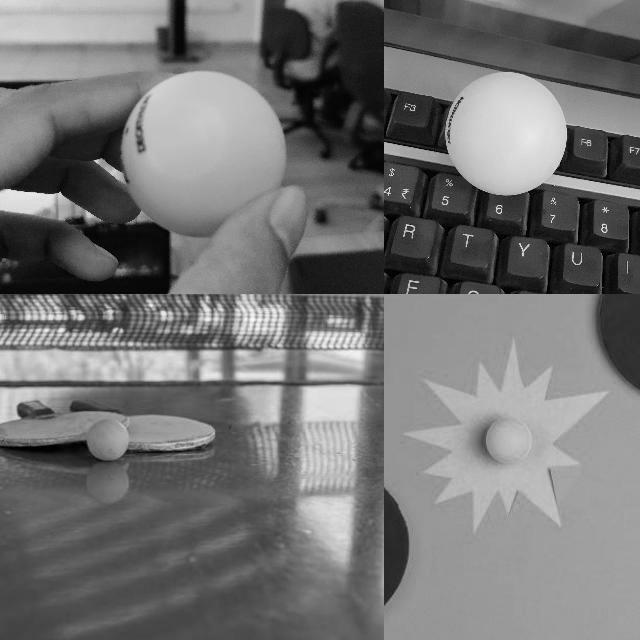ping-pong-ball: (118, 70, 286, 238), (445, 72, 565, 200), (486, 417, 530, 463), (85, 420, 128, 460)
